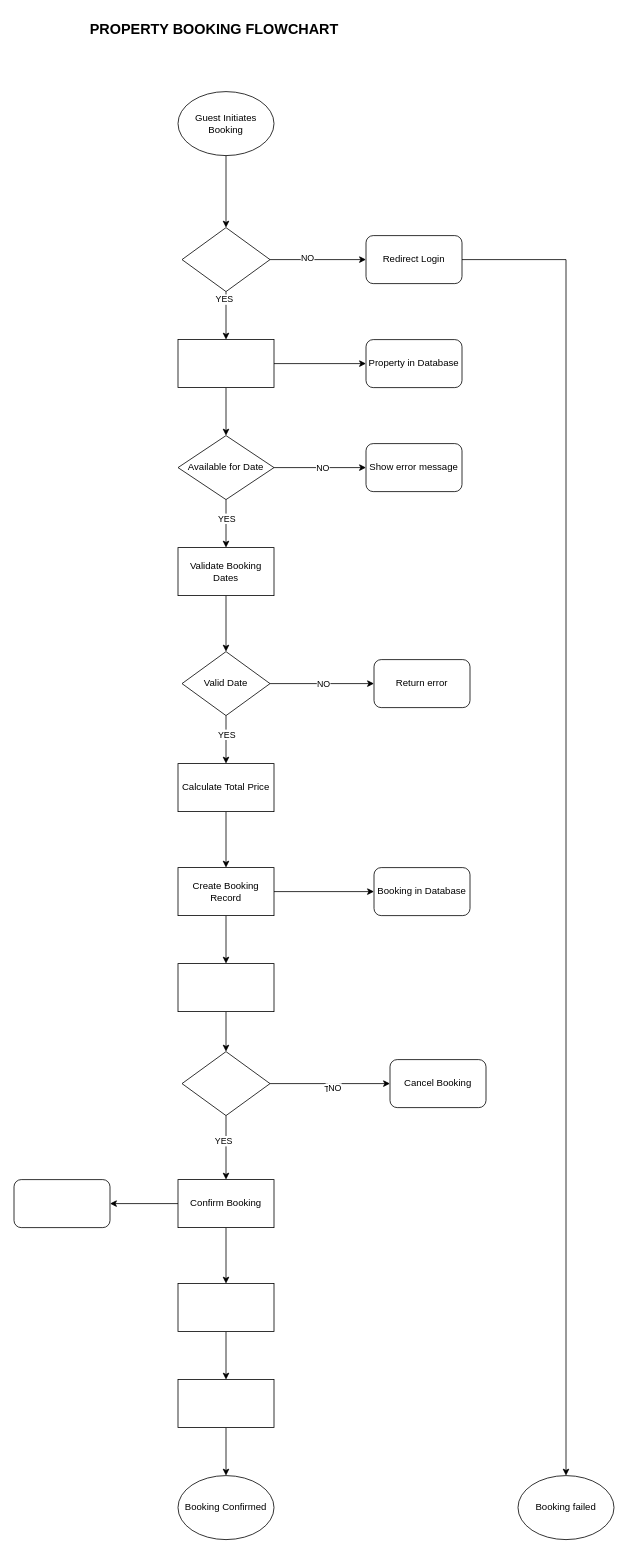
Image size: 628x1554. Some labels were removed from this diagram. Here are the shapes that lost their labels. From the top down, the box of each, then its label:
(181, 227, 270, 292): User Authenticate
(177, 339, 274, 388): Check property
(177, 963, 274, 1012): Initiate Payment
(181, 1051, 270, 1116): Payment Successful
(13, 1179, 110, 1228): Payment in Database
(177, 1283, 274, 1332): Send notification
(177, 1379, 274, 1428): Update Availability
